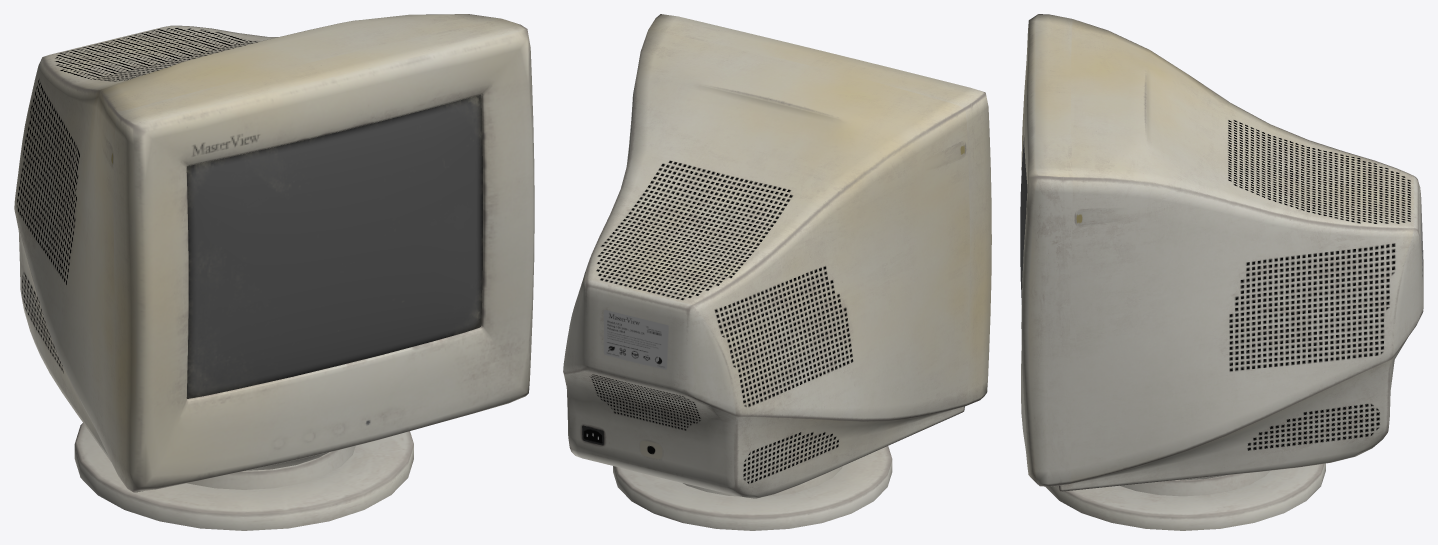
3 renders of one model, left to right at view 1: azimuth 30°, elevation 25°; view 2: azimuth 150°, elevation 25°; view 3: azimuth 270°, elevation 25°, orthographic. The views are drawn at different scales.
Visible parts, largest first — view 1: CRT_Monitor; view 2: CRT_Monitor; view 3: CRT_Monitor.
Part boxes in pixels (x1=…): CRT_Monitor: x1=14, y1=14, x2=534, y2=530; CRT_Monitor: x1=563, y1=14, x2=991, y2=530; CRT_Monitor: x1=1020, y1=14, x2=1423, y2=530.
Bounding box in the file's own units: 0.4059 × 0.433 × 0.4201.
2 materials, 2 textured.
